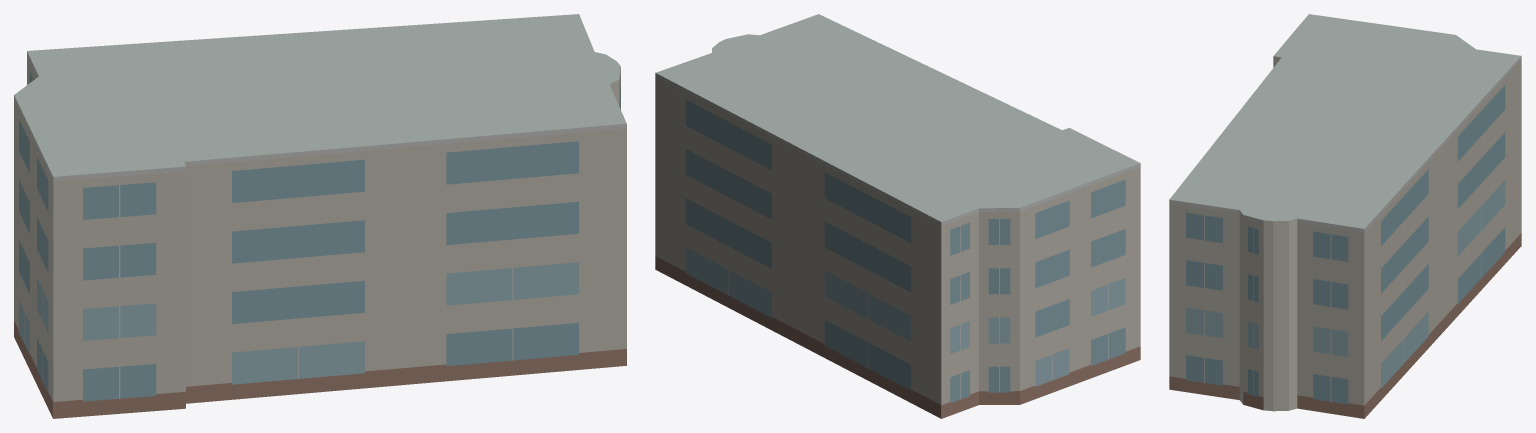
File: survey-upis-32580237.glb
The picture shows the model from 3 angles, left to right: view 1: azimuth 30°, elevation 25°; view 2: azimuth 150°, elevation 25°; view 3: azimuth 270°, elevation 25°; orthographic projection. The views are drawn at different scales.
Visible parts, largest first — view 1: survey-upis-32580237.tmp; view 2: survey-upis-32580237.tmp; view 3: survey-upis-32580237.tmp.
Part boxes in pixels (x1,y1,x2,y2): survey-upis-32580237.tmp: (14, 14, 626, 418); survey-upis-32580237.tmp: (655, 14, 1140, 418); survey-upis-32580237.tmp: (1169, 14, 1521, 418).
Size of the model in its own units: 31.07 by 12.8 by 21.53.
